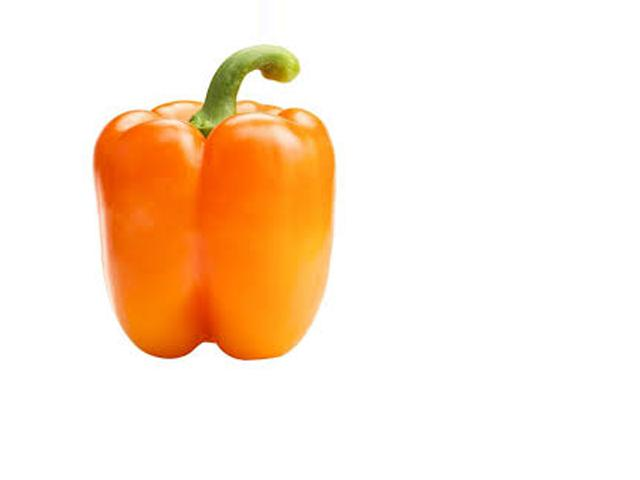bell_pepper: (68, 44, 361, 361)
